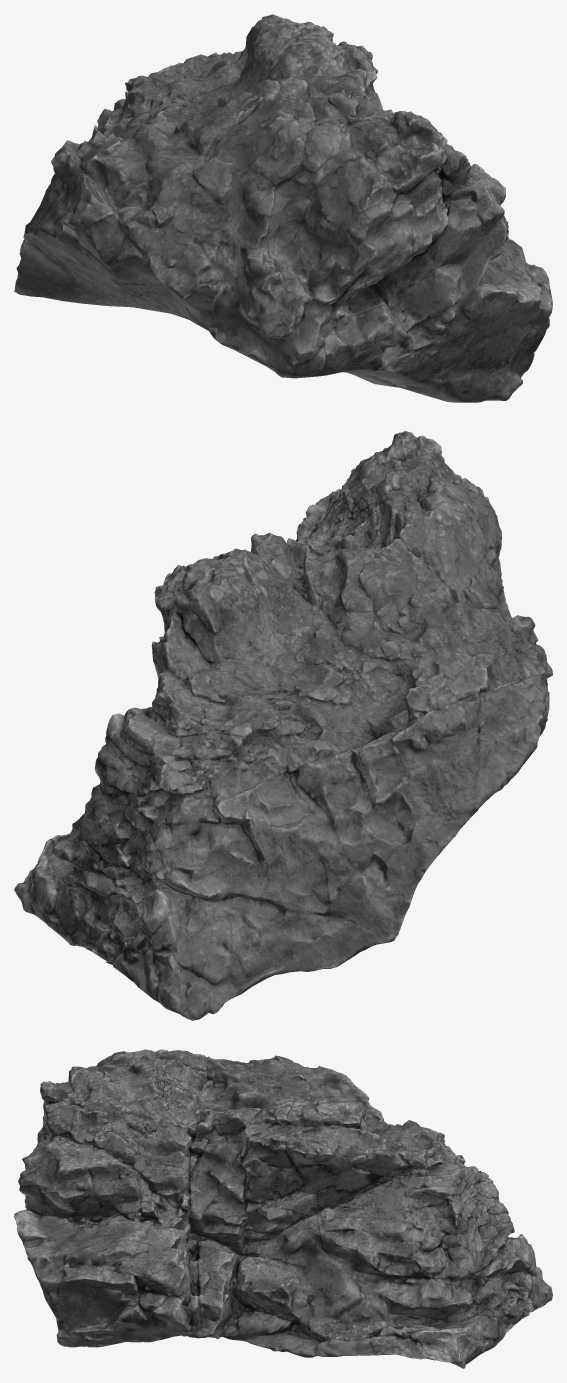
The model's file is moon-boulder.glb.
The picture shows the model from 3 angles, top to bottom: view 1: azimuth 30°, elevation 25°; view 2: azimuth 150°, elevation 25°; view 3: azimuth 270°, elevation 25°; orthographic projection. The views are drawn at different scales.
Parts seen in each view (by area): view 1: boulder_01; view 2: boulder_01; view 3: boulder_01.
Boxes of the visible parts, x1=… form: boulder_01: x1=14, y1=14, x2=552, y2=402; boulder_01: x1=14, y1=431, x2=552, y2=1020; boulder_01: x1=14, y1=1049, x2=552, y2=1368.
Bounding box in the file's own units: 1.27 × 1 × 1.83.
1 material, 1 textured.
